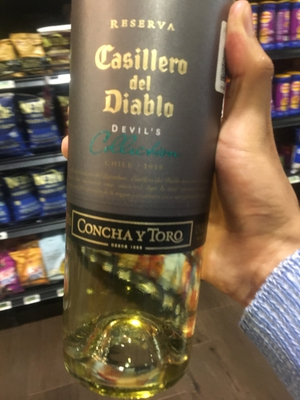casillero del diablo devils collection verde: (59, 2, 230, 392)
